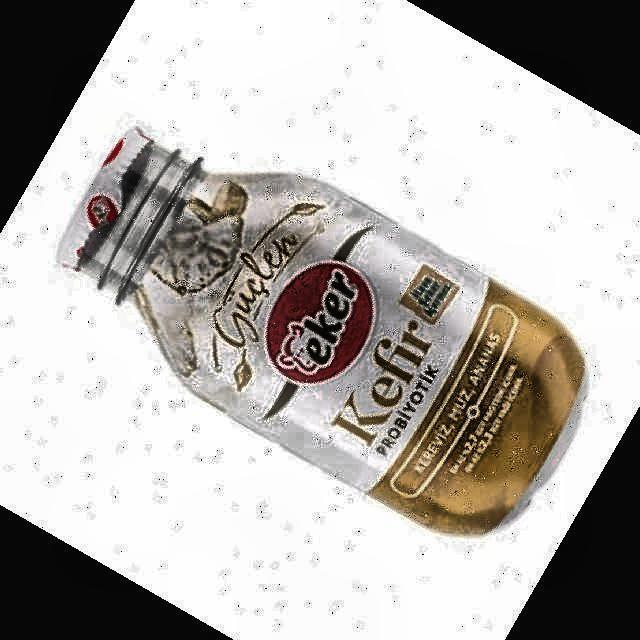plastic: (60, 129, 584, 532)
